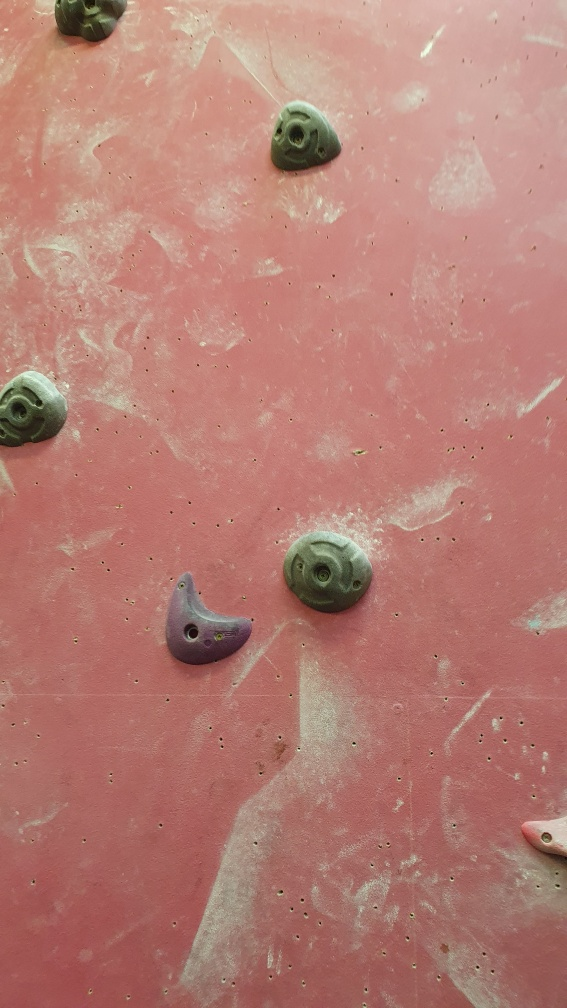Jug: (284, 527, 375, 617), (270, 98, 346, 178), (1, 370, 74, 453)
